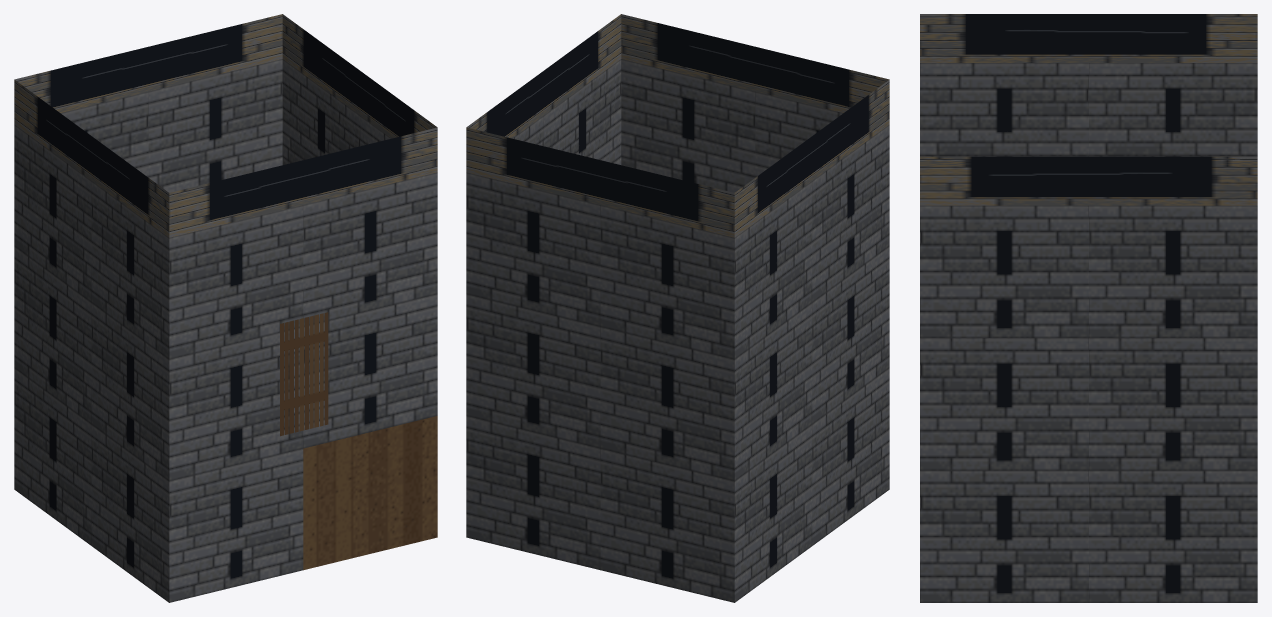
The model's file is keep.obj.
3 renders of one model, left to right at view 1: azimuth 30°, elevation 25°; view 2: azimuth 150°, elevation 25°; view 3: azimuth 270°, elevation 25°, orthographic. The views are drawn at different scales.
Visible parts, largest first — view 1: keep; view 2: keep; view 3: keep.
Boxes of the visible parts, <box> form: keep: <box>14,14,437,602</box>; keep: <box>466,14,889,602</box>; keep: <box>920,14,1257,602</box>.
Size of the model in its own units: 10 by 14.6 by 10.05.
Materials: 1 (1 with a texture image).
